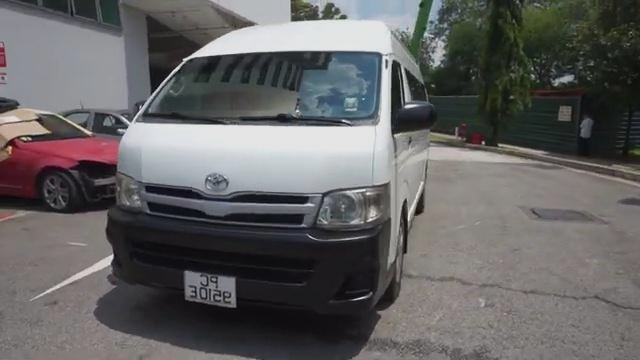van: (107, 14, 441, 342)
